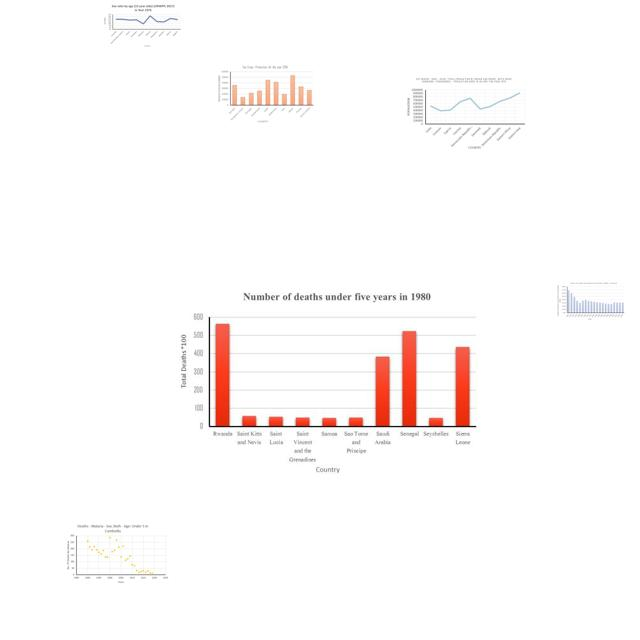Graph: (174, 287, 484, 483), (403, 76, 527, 150), (64, 522, 170, 586), (215, 64, 315, 123), (103, 3, 182, 48), (556, 281, 626, 321)
